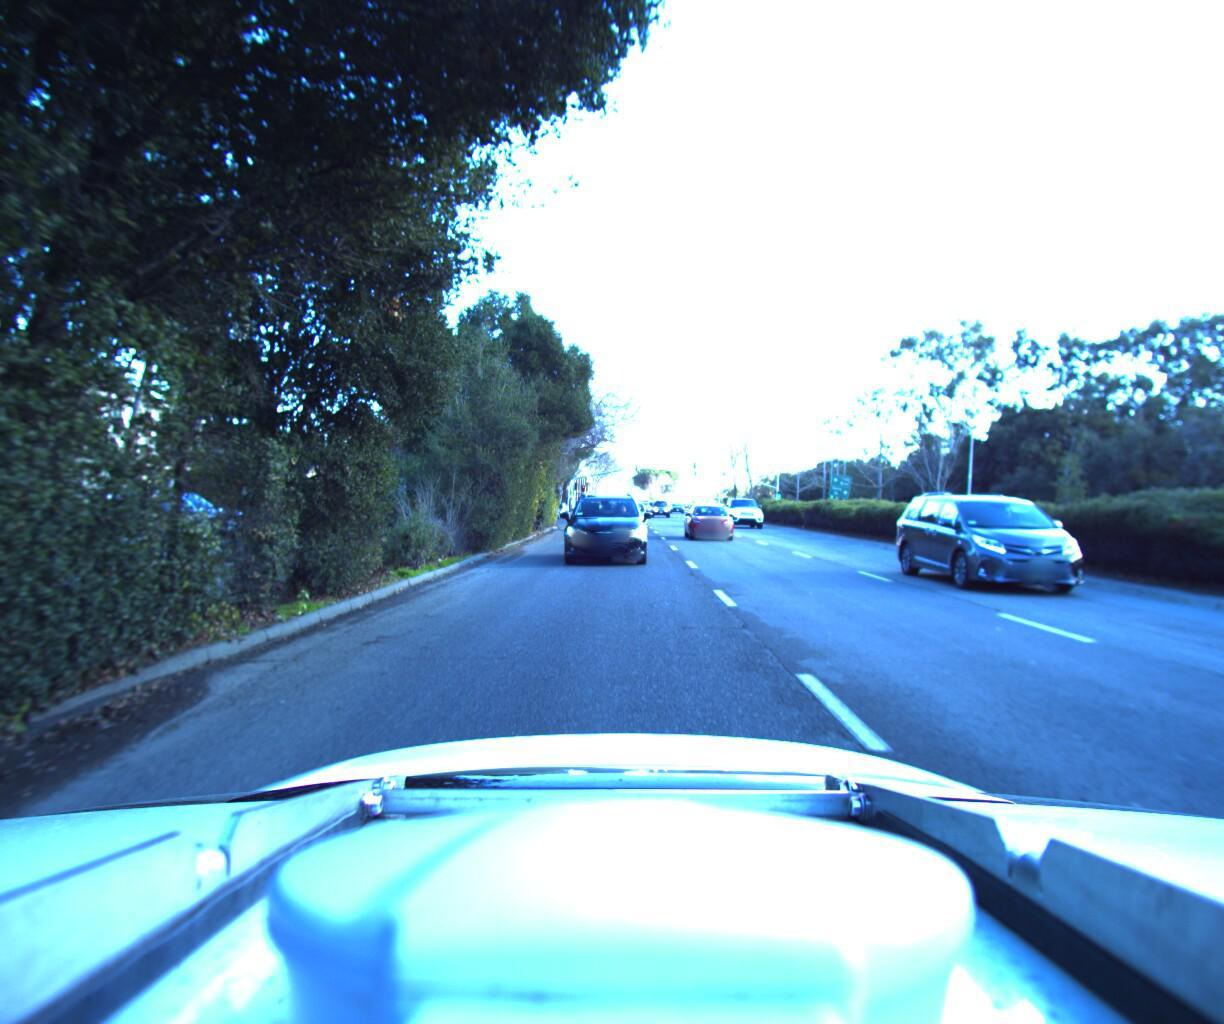car: (908, 479, 1158, 606), (558, 481, 646, 568), (682, 492, 742, 539), (723, 490, 770, 523), (648, 496, 671, 514)
